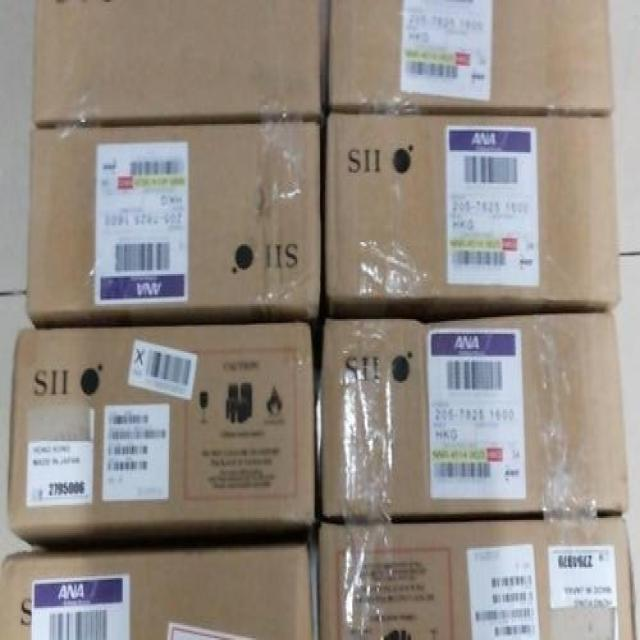box: (8, 323, 314, 550), (325, 114, 622, 325), (323, 313, 628, 518), (28, 122, 320, 330), (316, 514, 637, 640), (35, 0, 324, 126), (329, 0, 614, 114), (0, 544, 312, 640)
